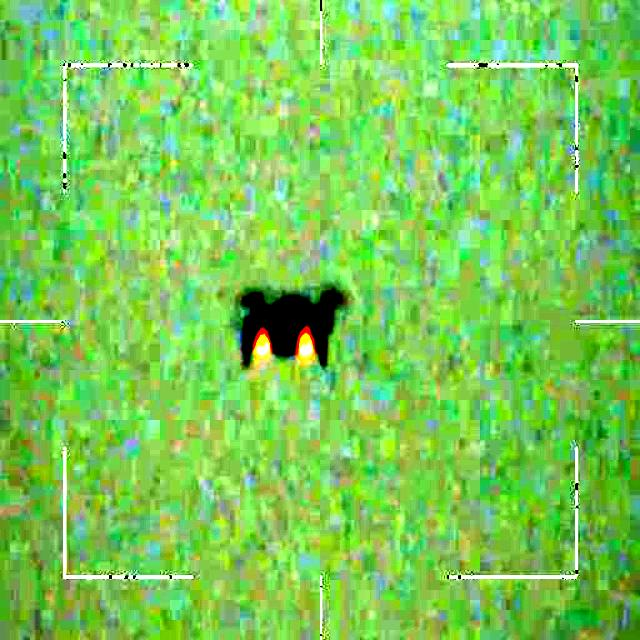bird: (236, 285, 345, 369)
